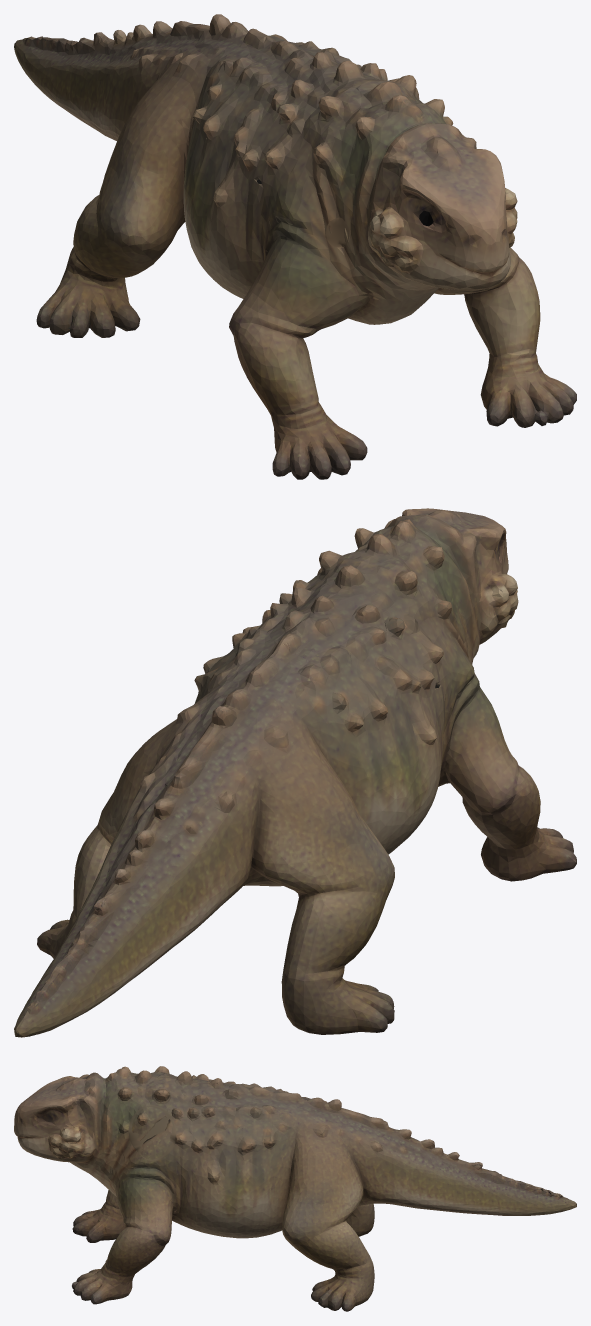
3 renders of one model, top to bottom at view 1: azimuth 30°, elevation 25°; view 2: azimuth 150°, elevation 25°; view 3: azimuth 270°, elevation 25°, orthographic. The views are drawn at different scales.
Visible parts, largest first — view 1: world; view 2: world; view 3: world, P1_bounded_surface_repair.
Boxes of the visible parts, <box> form: world: <box>14,14,576,479</box>; world: <box>14,508,576,1037</box>; world: <box>14,1066,576,1311</box>; P1_bounded_surface_repair: <box>128,1105,176,1160</box>.
Bounding box in the file's own units: 1.06 × 0.9592 × 2.5.
Materials: 4 (1 with a texture image).
